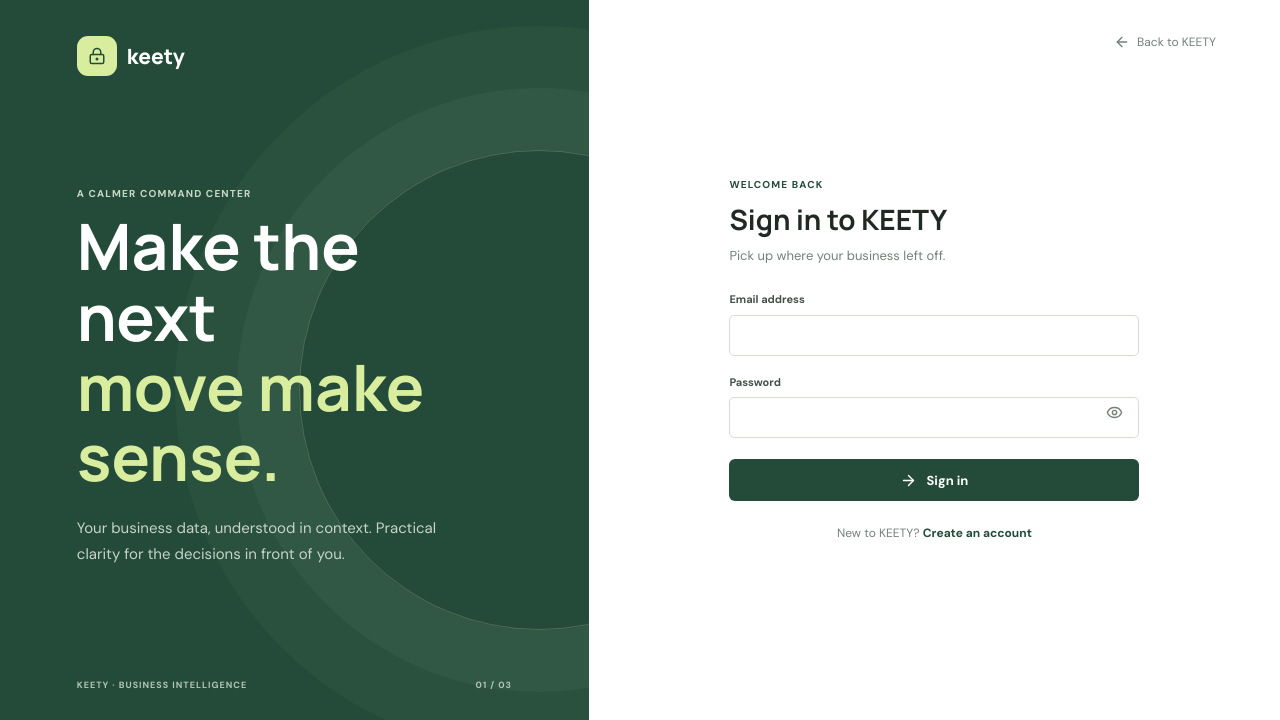
Scenario: authentication flow › shows a human-readable API credential error on login failure
The image size is (1280, 720).
Type "owner@example.test" into the field labelled "Email address" at [934, 335], box left=729, top=315, right=1139, bottom=356
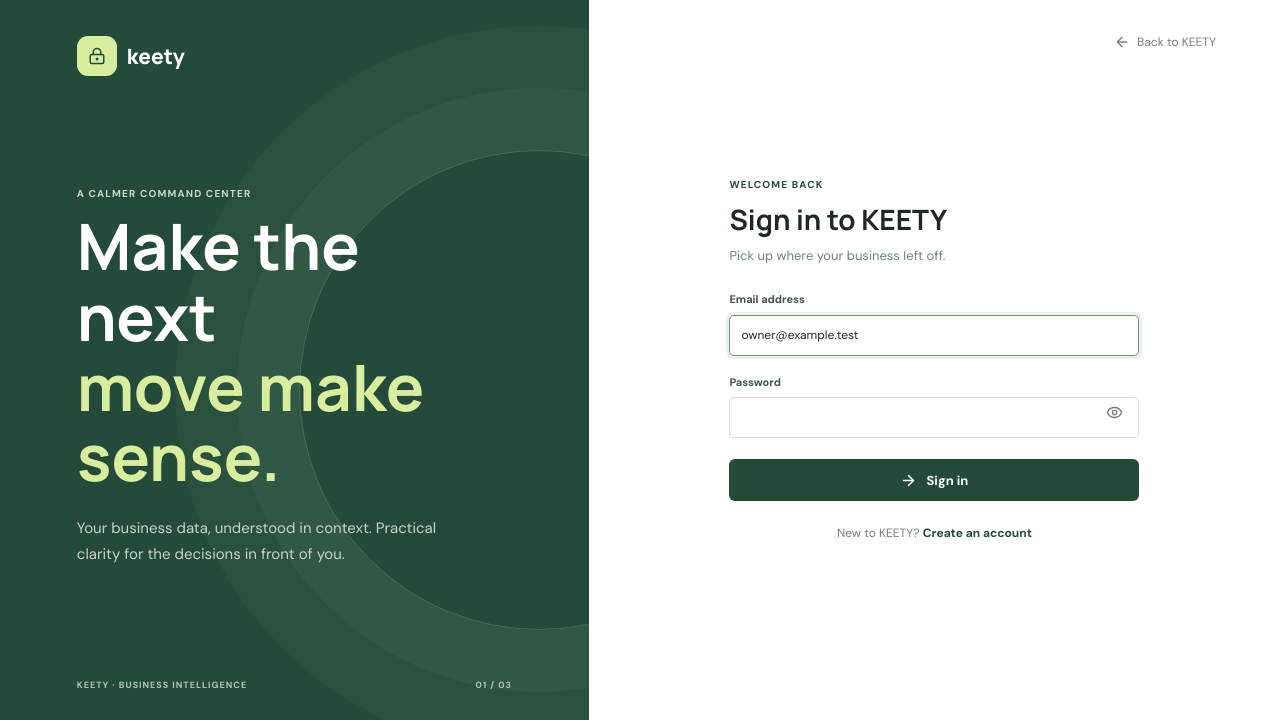
Type "synthetic-password" into the password field labelled "Password" at [934, 418], box left=729, top=397, right=1139, bottom=438
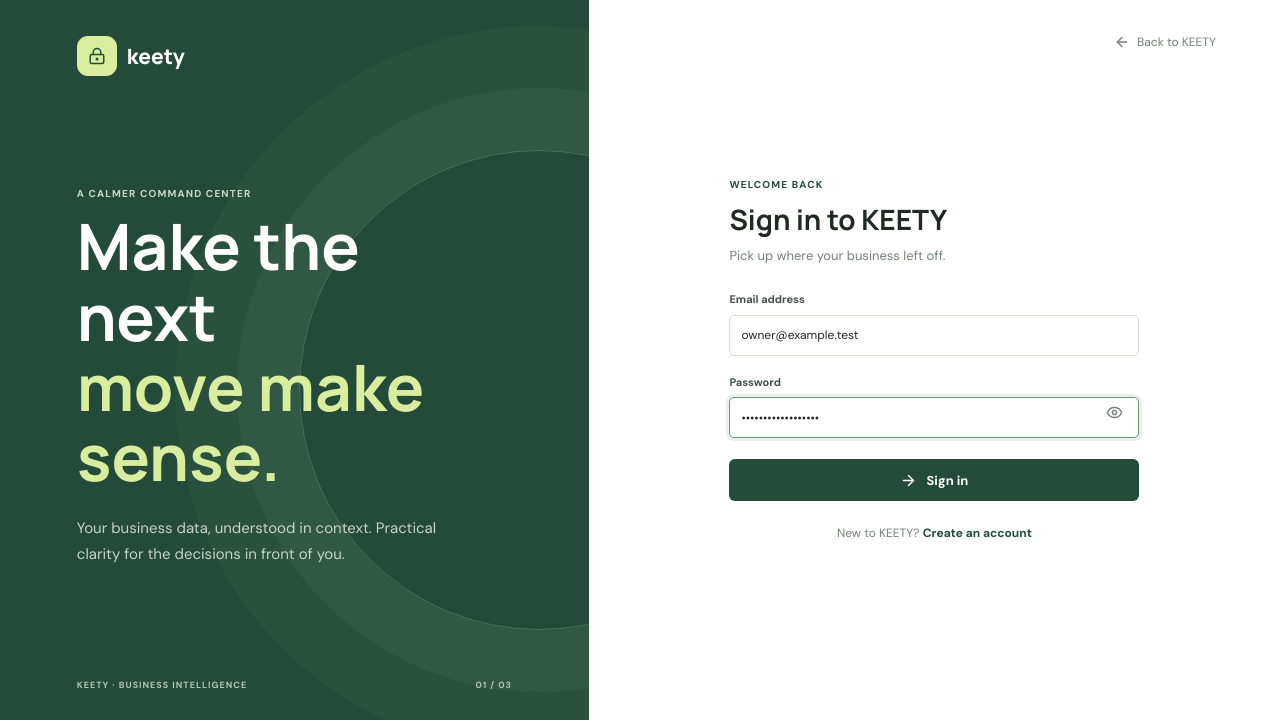
Click the button "Sign in" at [934, 480], box left=729, top=459, right=1139, bottom=501
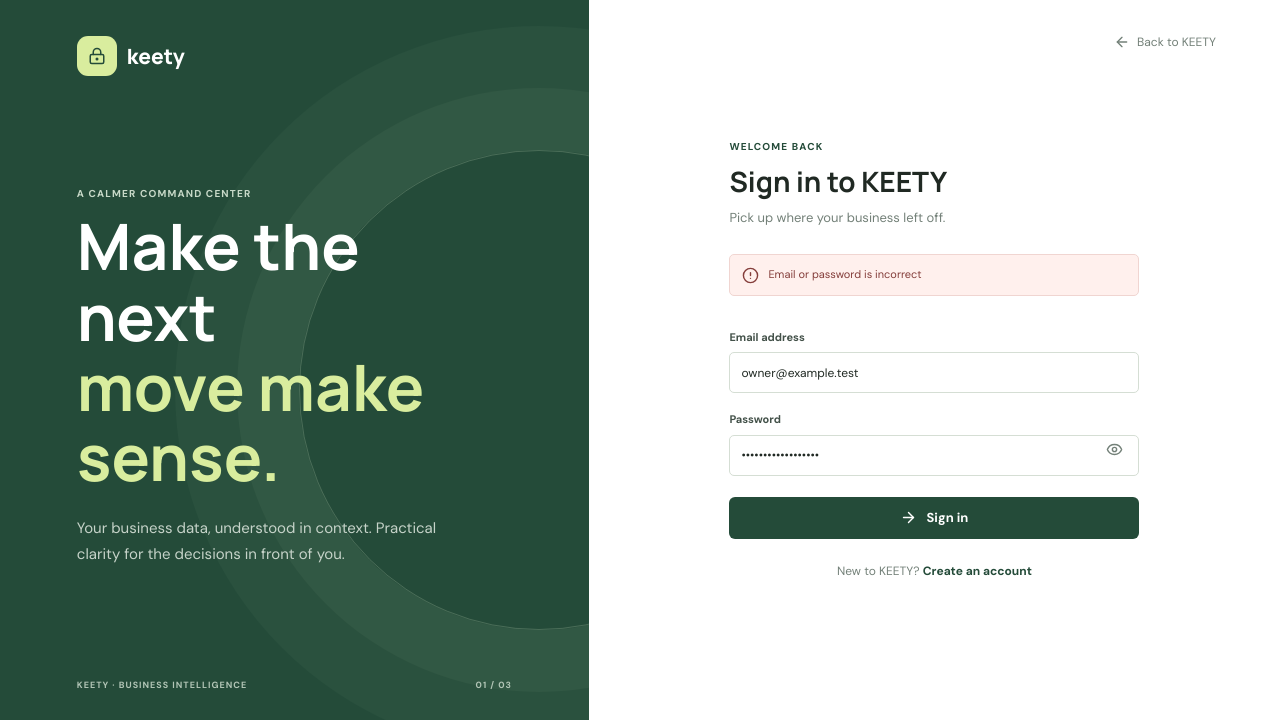
Now the message reads "Email or password is incorrect", box left=768, top=267, right=922, bottom=281
